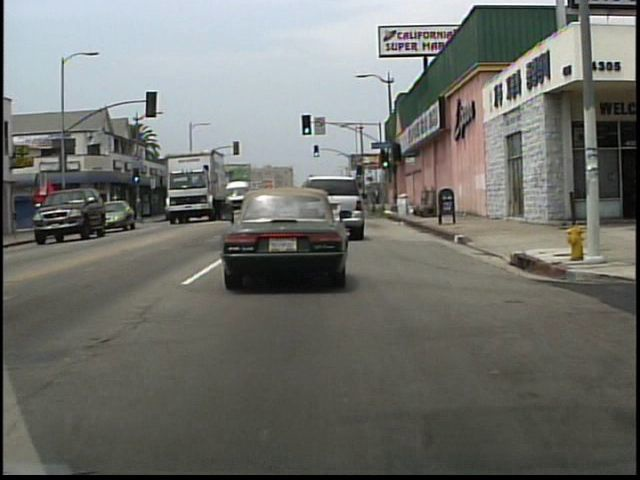person: (69, 203, 81, 229)
